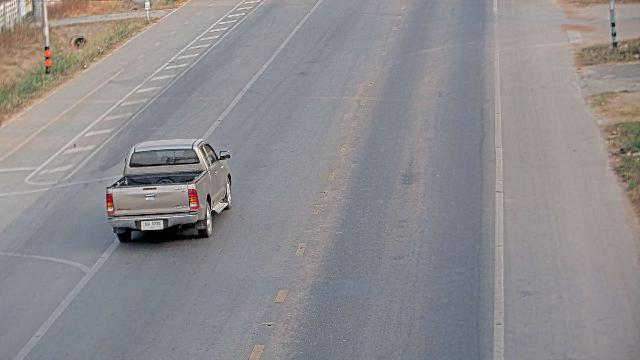pickup-truck: (105, 137, 233, 241)
